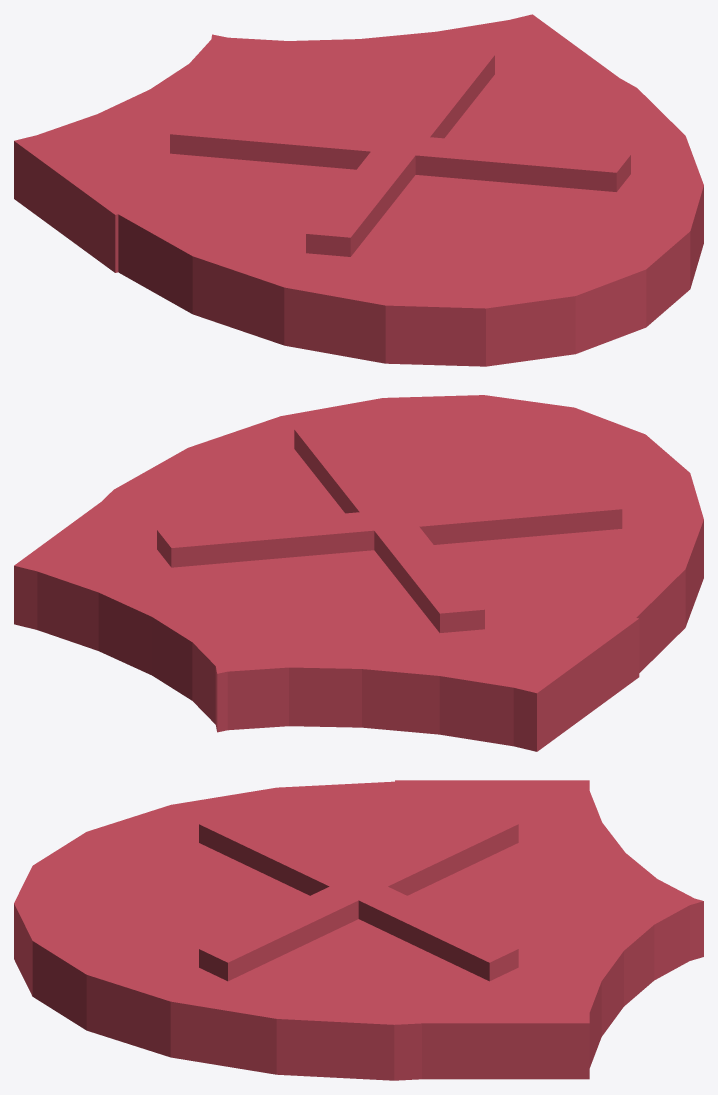
File: Defenderpoint.glb
The picture shows the model from 3 angles, top to bottom: view 1: azimuth 30°, elevation 25°; view 2: azimuth 150°, elevation 25°; view 3: azimuth 270°, elevation 25°; orthographic projection. The views are drawn at different scales.
Parts seen in each view (by area): view 1: Mesh_Mesh_head_geo.001_lambert2SG.001; view 2: Mesh_Mesh_head_geo.001_lambert2SG.001; view 3: Mesh_Mesh_head_geo.001_lambert2SG.001.
Boxes of the visible parts, left/top/right/bottom form: Mesh_Mesh_head_geo.001_lambert2SG.001: left=14, top=14, right=703, bottom=366; Mesh_Mesh_head_geo.001_lambert2SG.001: left=14, top=395, right=703, bottom=751; Mesh_Mesh_head_geo.001_lambert2SG.001: left=14, top=780, right=703, bottom=1080.
Size of the model in its own units: 28.16 by 4 by 33.57.
